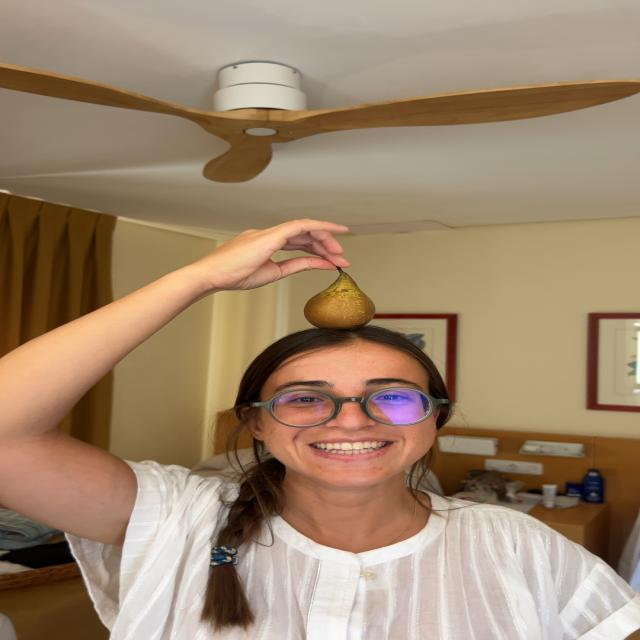pear: (303, 269, 375, 329)
